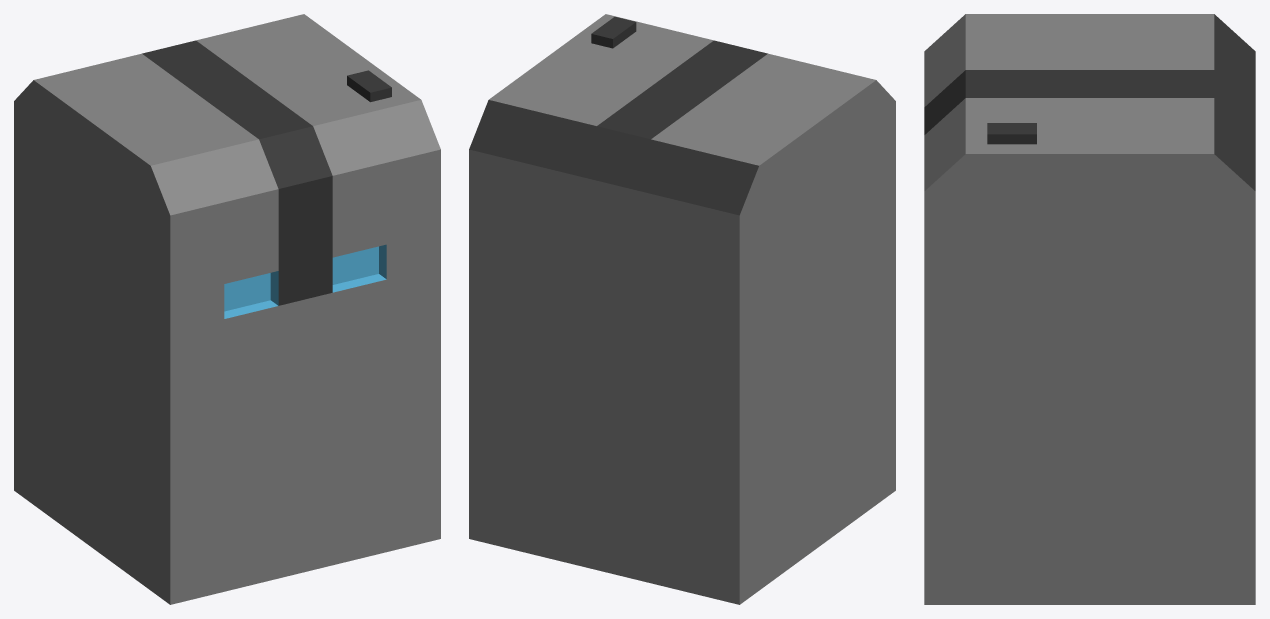
The model's file is Block3.fbx.
3 renders of one model, left to right at view 1: azimuth 30°, elevation 25°; view 2: azimuth 150°, elevation 25°; view 3: azimuth 270°, elevation 25°, orthographic. The views are drawn at different scales.
Visible parts, largest first — view 1: Owen1; view 2: Owen1; view 3: Owen1.
Part boxes in pixels (x1,y1,x2,y2): Owen1: (14, 14, 440, 604); Owen1: (469, 14, 895, 604); Owen1: (924, 14, 1255, 604).
Size of the model in its own units: 200 by 307 by 200.
